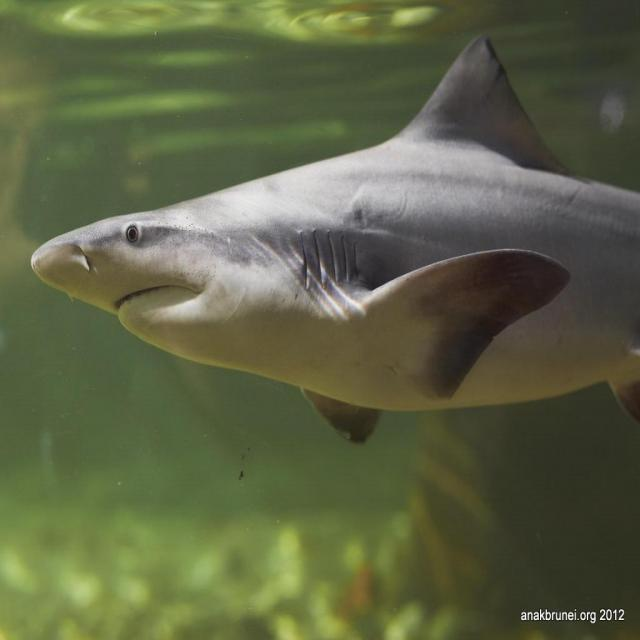Shark: (32, 31, 640, 427)
